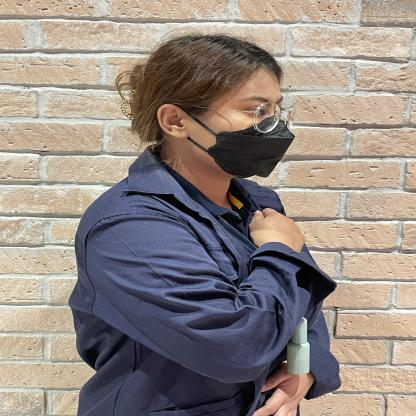Sadness: (212, 205, 350, 290)
